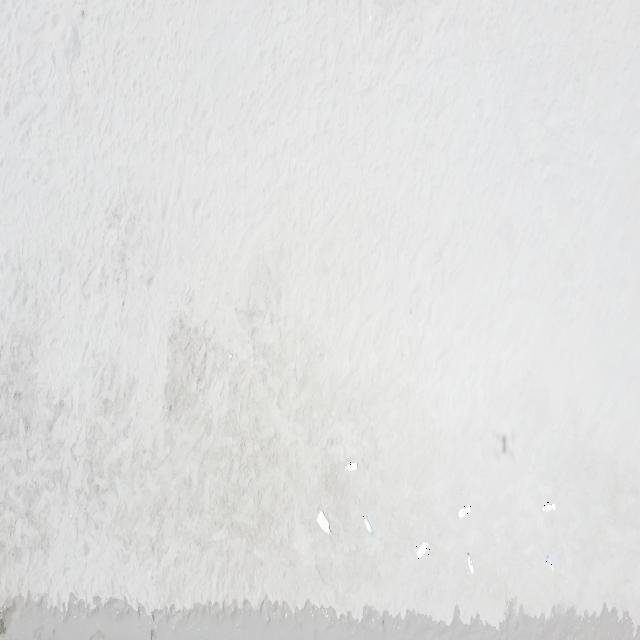plastic-bottle: (318, 510, 332, 538), (415, 540, 430, 560), (456, 506, 471, 520), (363, 516, 373, 536), (542, 500, 556, 514), (467, 552, 475, 576), (344, 461, 358, 472), (546, 555, 554, 574)
